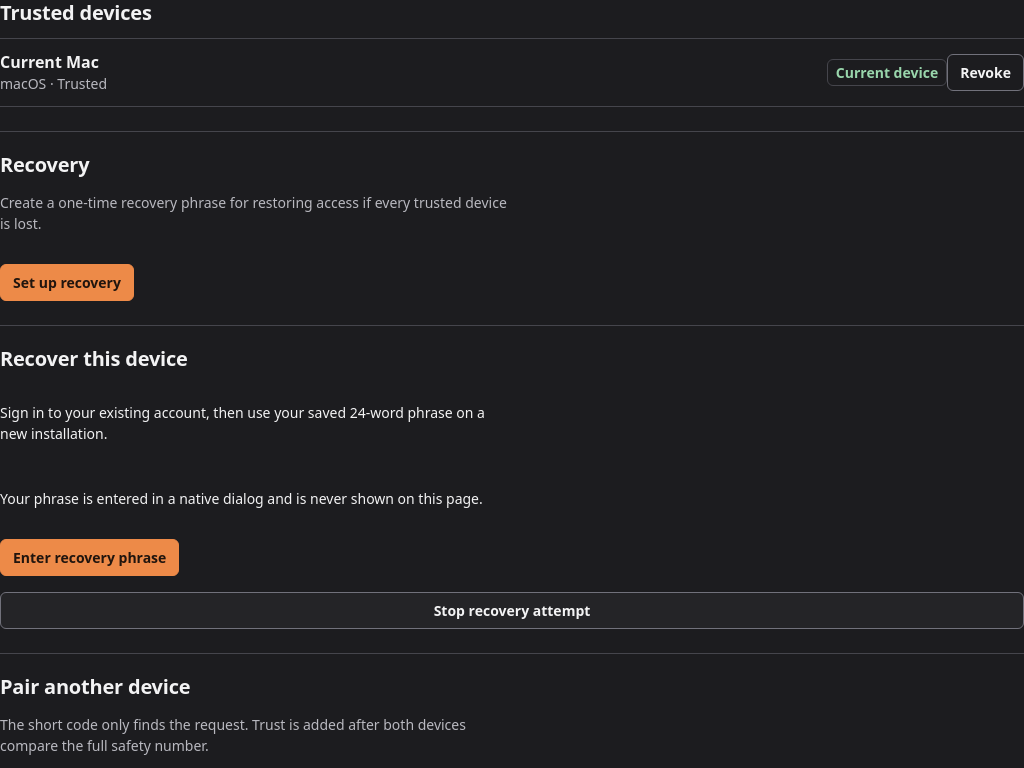
Test: DevicesScreen › shows current and final-device consequences before revocation
Expected: the heading "Current Mac" is shown, [0,51,107,73]
Click the button with aria-label "Revoke Current Mac". click: [986, 73]
box: [947,54,1023,91]
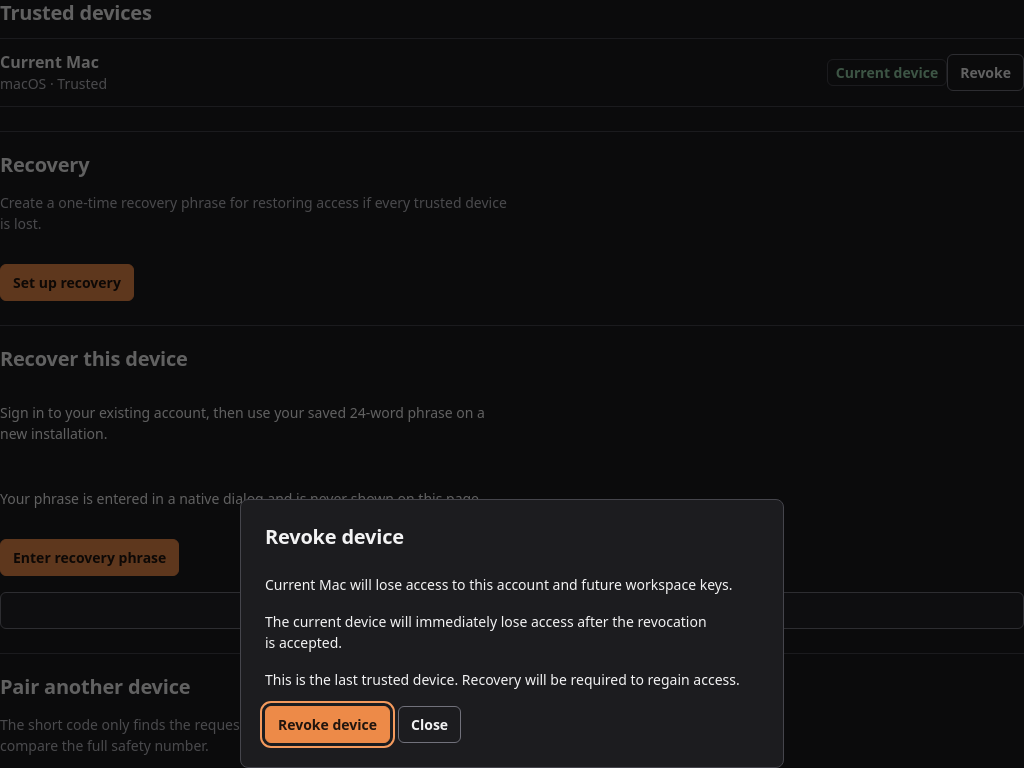
Expected: the text "current device will immediately lose access" is shown, [265,612,707,652]
Expected: the text "last trusted device" is shown, [265,670,740,689]
